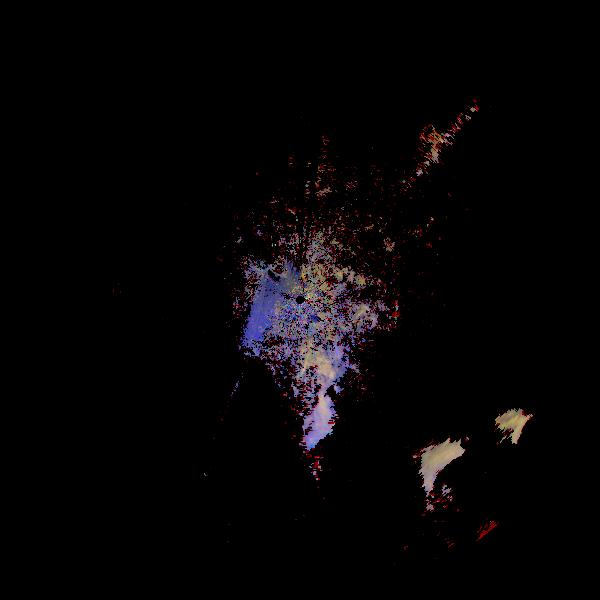roost: (416, 436, 491, 511), (504, 406, 570, 472)
